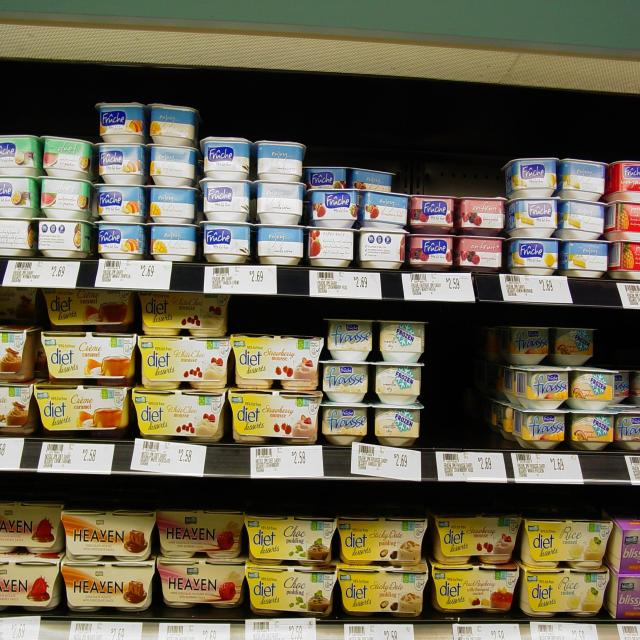empty_space: (436, 320, 492, 440)
